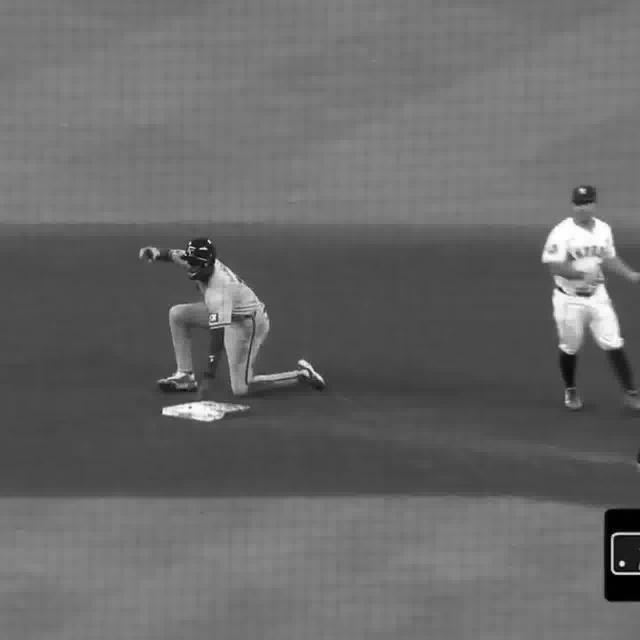base: (158, 403, 255, 422)
shoe: (295, 358, 328, 387), (155, 373, 199, 387), (562, 386, 583, 412), (623, 394, 640, 415)
